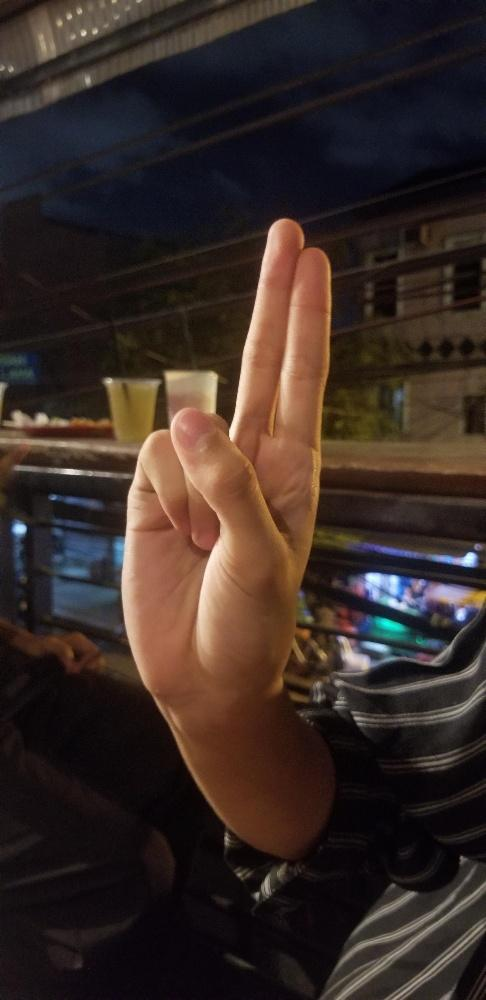u: (117, 211, 337, 702)
